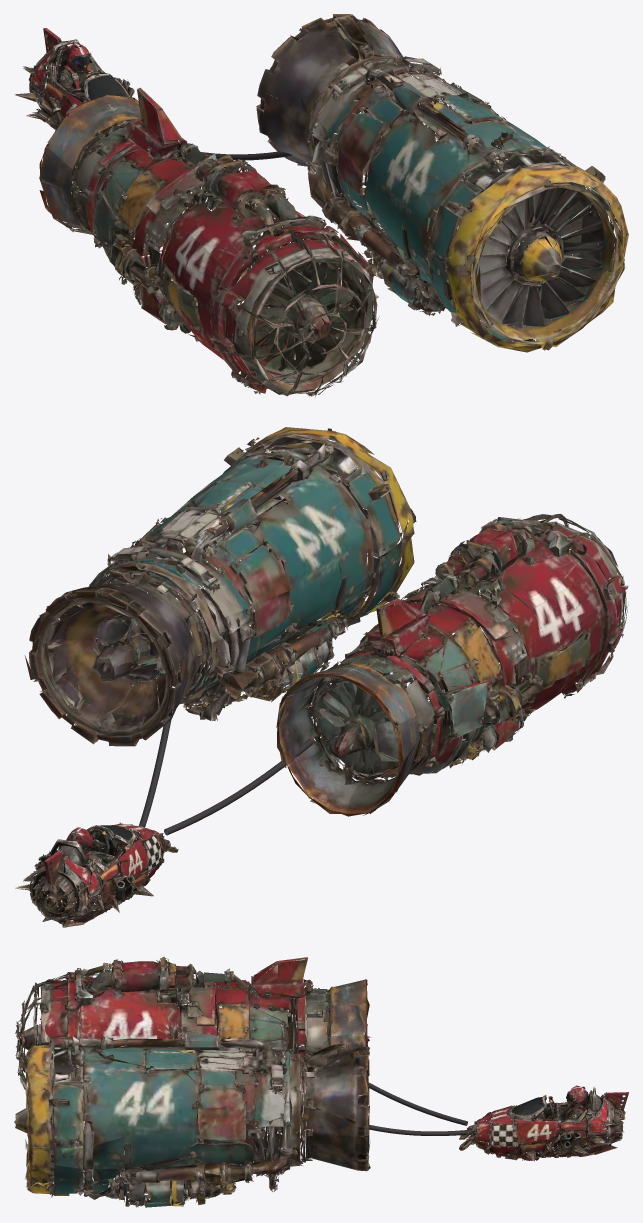
The model's file is scrapjack-rival.glb.
3 renders of one model, top to bottom at view 1: azimuth 30°, elevation 25°; view 2: azimuth 150°, elevation 25°; view 3: azimuth 270°, elevation 25°, orthographic. The views are drawn at different scales.
Parts seen in each view (by area): view 1: scrapjack-engine-right-body, scrapjack-engine-left-body, scrapjack-cockpit-body; view 2: scrapjack-engine-right-body, scrapjack-engine-left-body, scrapjack-cockpit-body, scrapjack-tow-cables; view 3: scrapjack-engine-right-body, scrapjack-engine-left-body, scrapjack-cockpit-body, scrapjack-tow-cables.
Boxes of the visible parts, <box> form: scrapjack-engine-right-body: <box>256,14,628,352</box>; scrapjack-engine-left-body: <box>39,87,379,396</box>; scrapjack-cockpit-body: <box>15,28,134,152</box>; scrapjack-engine-right-body: <box>24,427,416,746</box>; scrapjack-engine-left-body: <box>276,514,628,816</box>; scrapjack-cockpit-body: <box>15,822,178,927</box>; scrapjack-tow-cables: <box>139,712,312,835</box>; scrapjack-engine-right-body: <box>14,1034,370,1207</box>; scrapjack-engine-left-body: <box>15,956,370,1108</box>; scrapjack-cockpit-body: <box>459,1085,628,1161</box>; scrapjack-tow-cables: <box>368,1082,467,1135</box>.
Bounding box in the file's own units: 15.31 × 7.66 × 26.78.
Materials: 4 (3 with a texture image).
